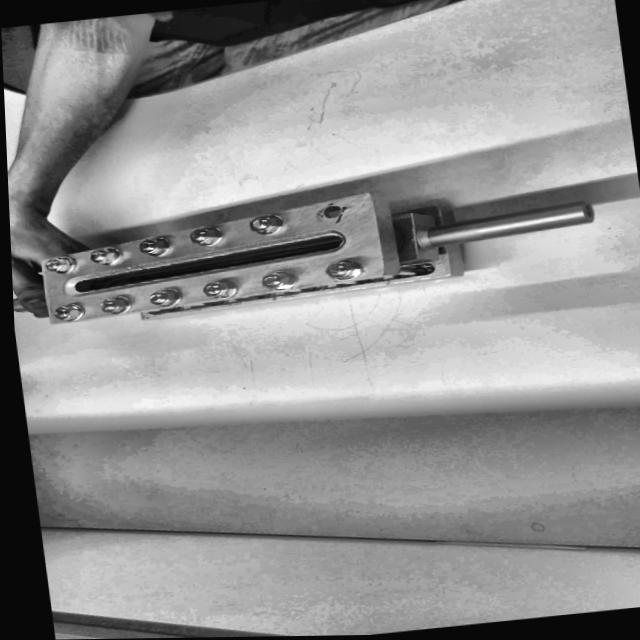ShuiWeiQi_11: (34, 185, 490, 344)
